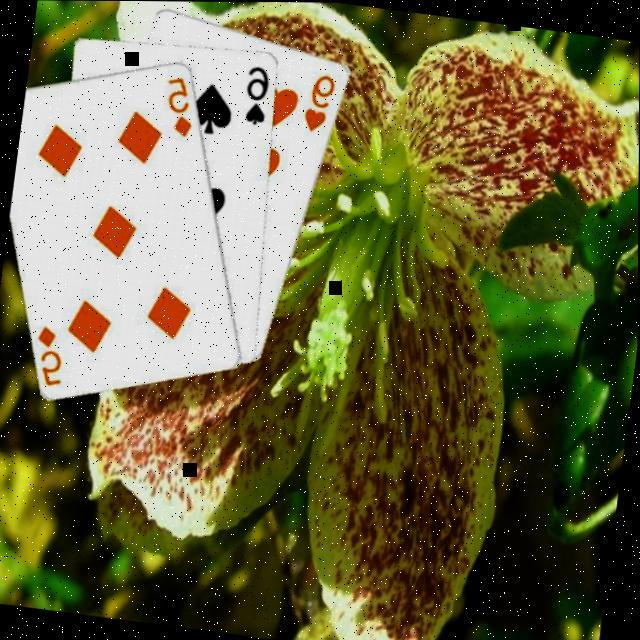5D: (31, 320, 74, 390), (160, 70, 203, 138)
6S: (240, 61, 276, 128)
9H: (302, 68, 341, 134)
